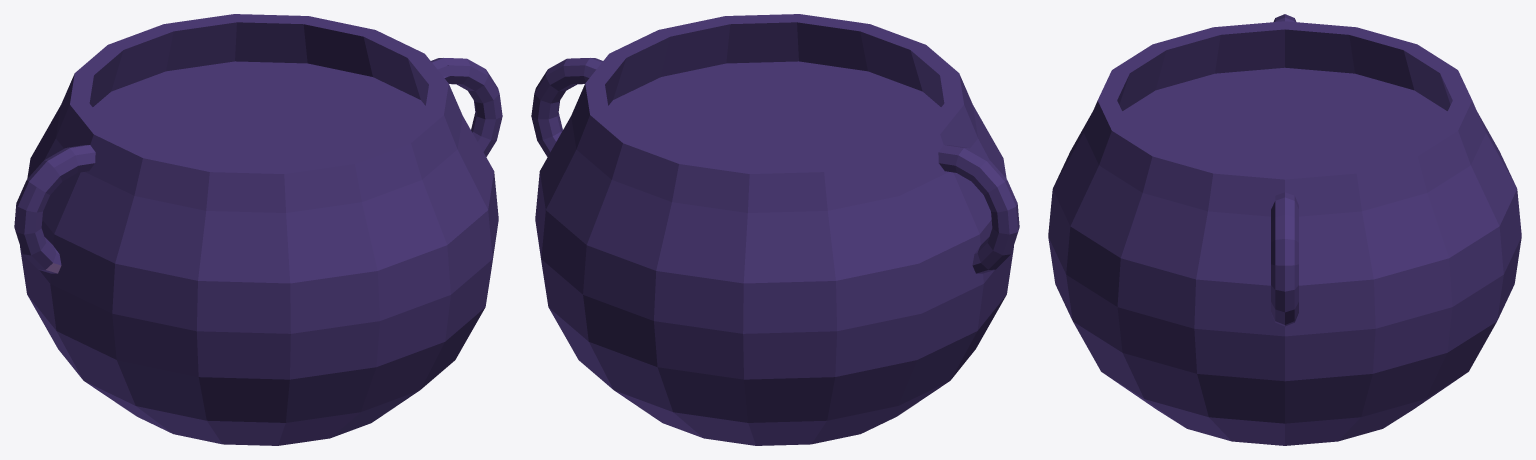
File: Cauldron.obj
3 renders of one model, left to right at view 1: azimuth 30°, elevation 25°; view 2: azimuth 150°, elevation 25°; view 3: azimuth 270°, elevation 25°, orthographic.
Visible parts, largest first — view 1: Cauldron_Cylinder.004; view 2: Cauldron_Cylinder.004; view 3: Cauldron_Cylinder.004.
Boxes of the visible parts, <box> form: Cauldron_Cylinder.004: <box>14,14,502,445</box>; Cauldron_Cylinder.004: <box>531,14,1019,445</box>; Cauldron_Cylinder.004: <box>1048,14,1521,445</box>.
Size of the model in its own units: 3.59 by 2.07 by 3.1.
